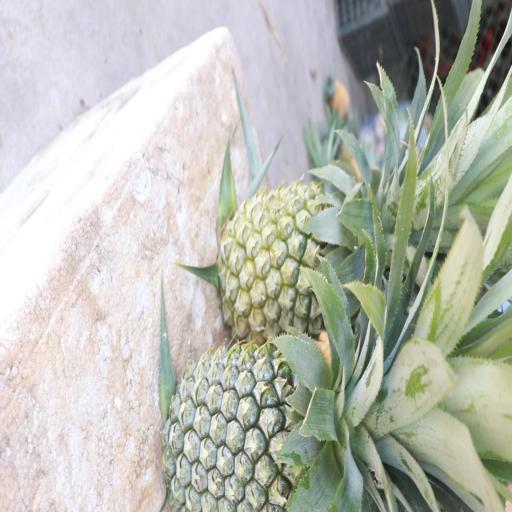Pineapple - v8 v1: (216, 178, 405, 338)
